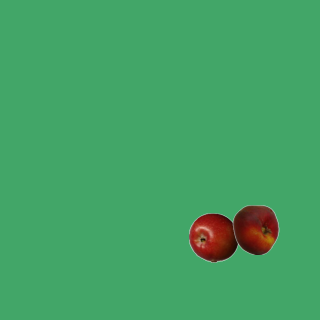Apple Braeburn: (188, 212, 238, 262)
Nectarine Flat: (230, 204, 280, 254)
